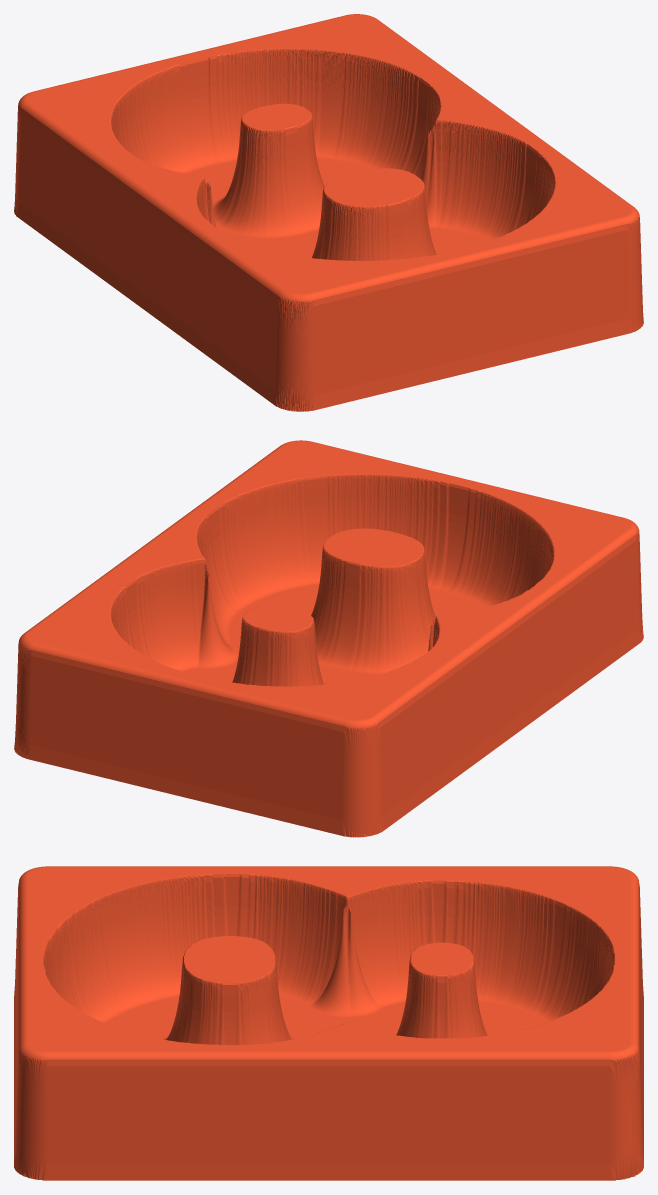
Rendered from mold.glb.
The picture shows the model from 3 angles, top to bottom: view 1: azimuth 30°, elevation 25°; view 2: azimuth 150°, elevation 25°; view 3: azimuth 270°, elevation 25°; orthographic projection. The views are drawn at different scales.
Parts seen in each view (by area): view 1: geometry_0; view 2: geometry_0; view 3: geometry_0.
Part boxes in pixels (<box>): geometry_0: <box>14,14,643,411</box>; geometry_0: <box>14,440,643,837</box>; geometry_0: <box>14,866,643,1180</box>.
Size of the model in its own units: 0.1242 by 0.0365 by 0.1689.
